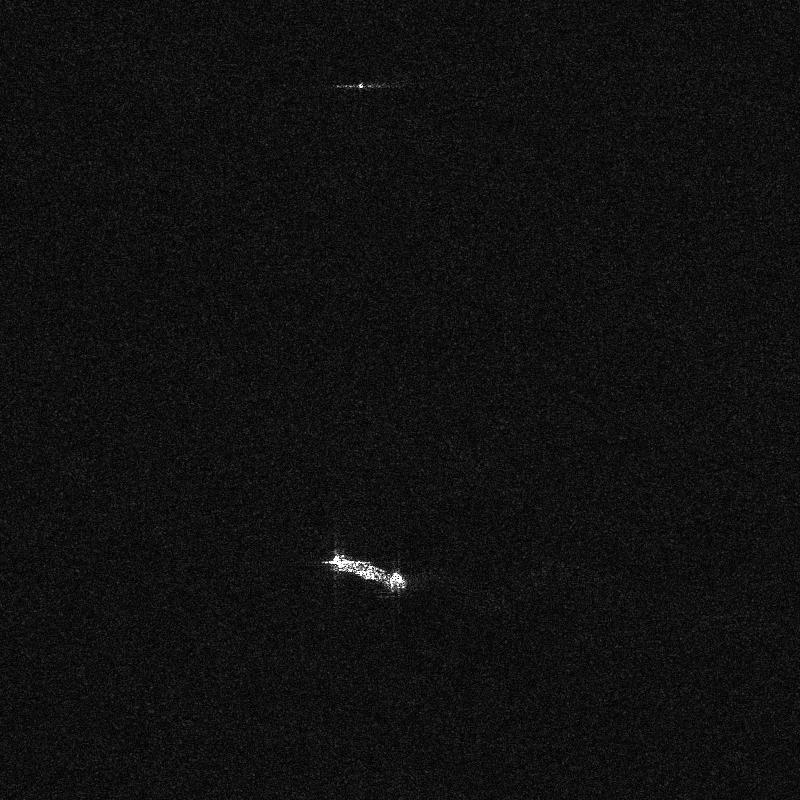ship: (320, 553, 406, 590)
